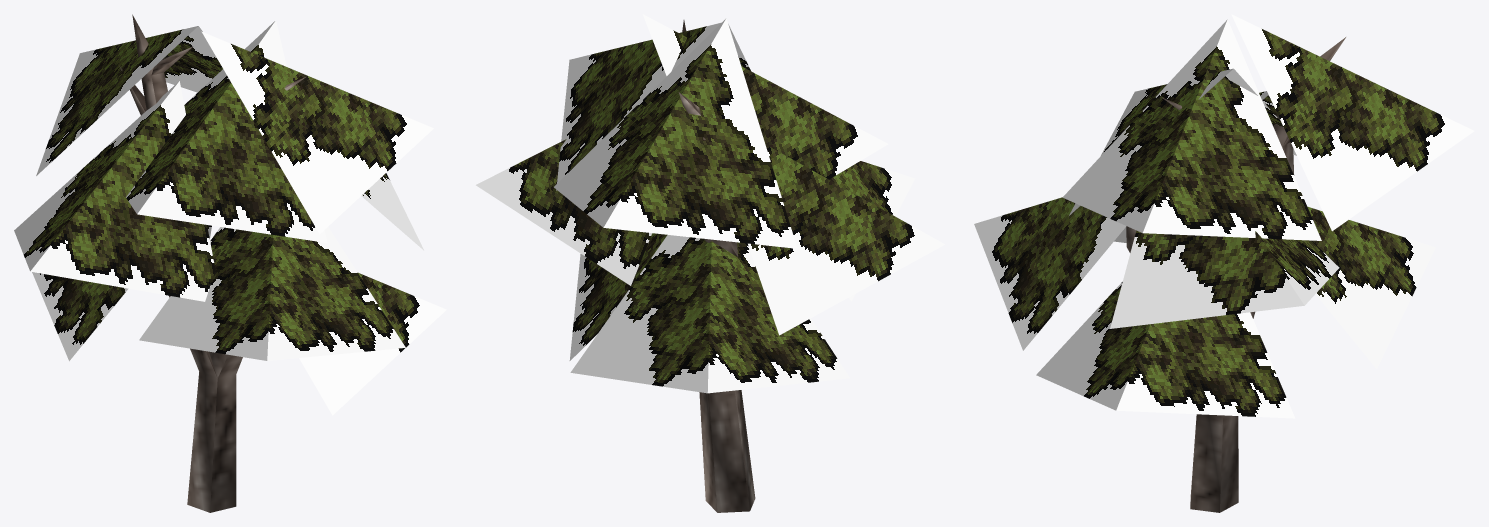
Rendered from poplar_1.dae.
The picture shows the model from 3 angles, left to right: view 1: azimuth 30°, elevation 25°; view 2: azimuth 150°, elevation 25°; view 3: azimuth 270°, elevation 25°; orthographic projection. The views are drawn at different scales.
Visible parts, largest first — view 1: poplar_1; view 2: poplar_1; view 3: poplar_1.
Boxes of the visible parts, x1=… form: poplar_1: x1=14, y1=14, x2=446, y2=512; poplar_1: x1=476, y1=14, x2=944, y2=512; poplar_1: x1=974, y1=14, x2=1474, y2=512.
Size of the model in its own units: 4.32 by 4.62 by 4.95.
2 materials, 2 textured.
